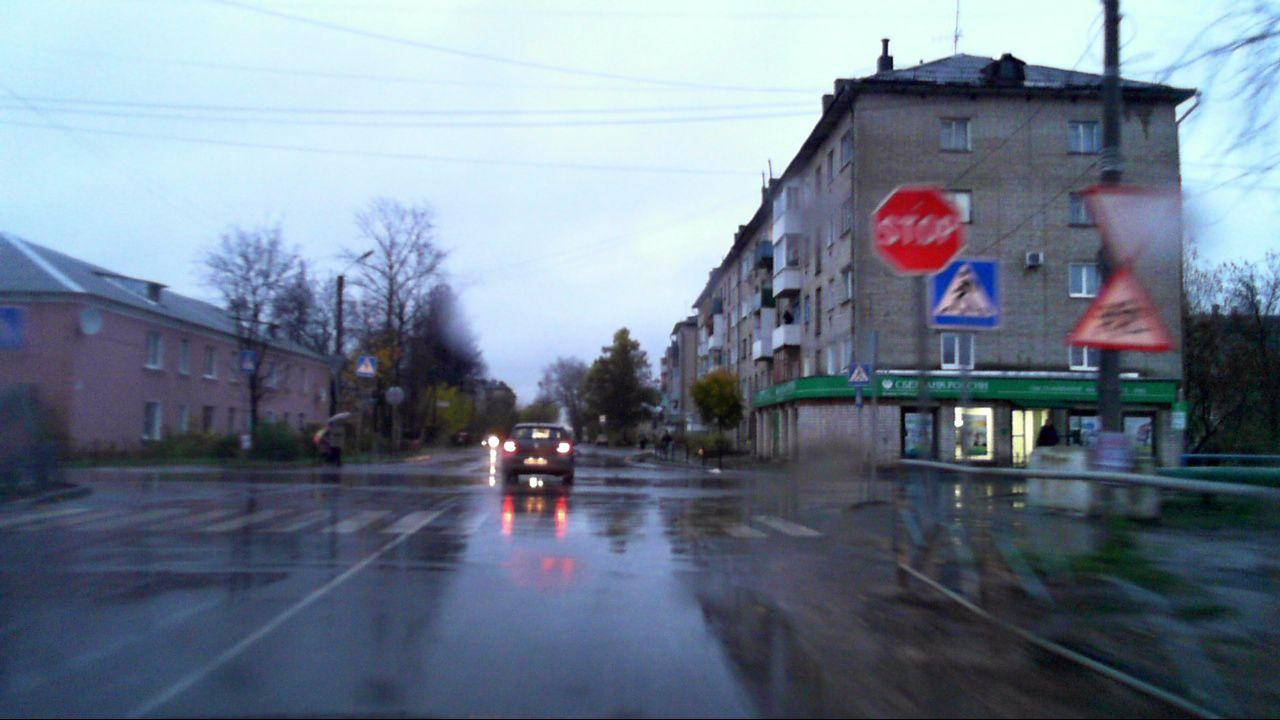1_23: (1073, 265, 1172, 352)
2_4: (1082, 186, 1184, 262)
2_5: (874, 186, 965, 275)
5_19_1: (929, 261, 999, 331), (848, 362, 870, 385), (237, 350, 255, 374)
5_19_2: (0, 306, 30, 352), (354, 355, 378, 377)
